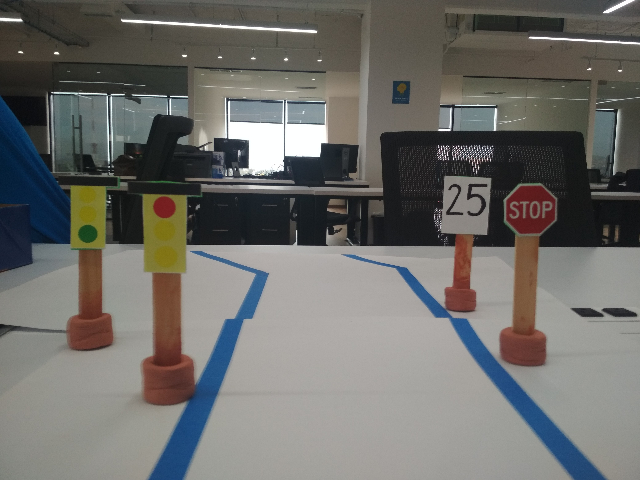Green Traffic Light: (55, 171, 121, 251)
Red Traffic Light: (124, 178, 204, 275)
Speed Limit 25: (437, 172, 494, 239)
Stop Sign: (503, 182, 560, 238)
